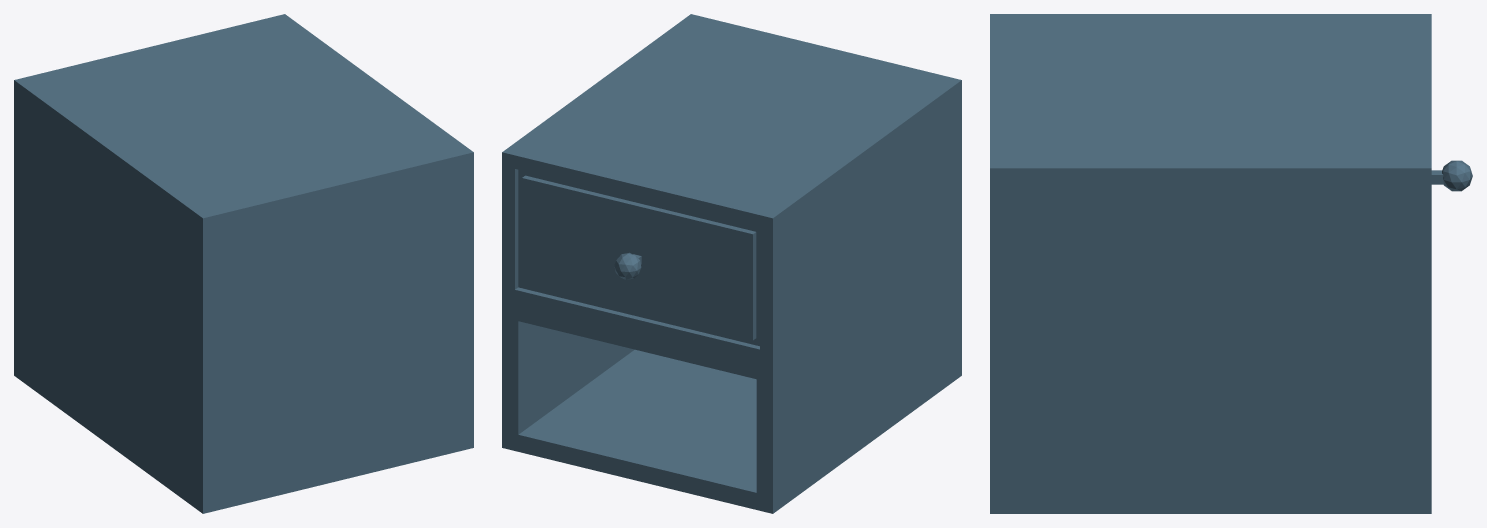
File: Chevet.fbx
3 views of the same model, side by side, from view 1: azimuth 30°, elevation 25°; view 2: azimuth 150°, elevation 25°; view 3: azimuth 270°, elevation 25° (orthographic). The views are drawn at different scales.
Visible parts, largest first — view 1: Cube.007; view 2: Cube.007; view 3: Cube.007.
Boxes of the visible parts, x1,y1,x2,y2 form: Cube.007: [14, 14, 473, 513]; Cube.007: [502, 14, 961, 513]; Cube.007: [990, 14, 1472, 513].
Size of the model in its own units: 166 by 173 by 219.
